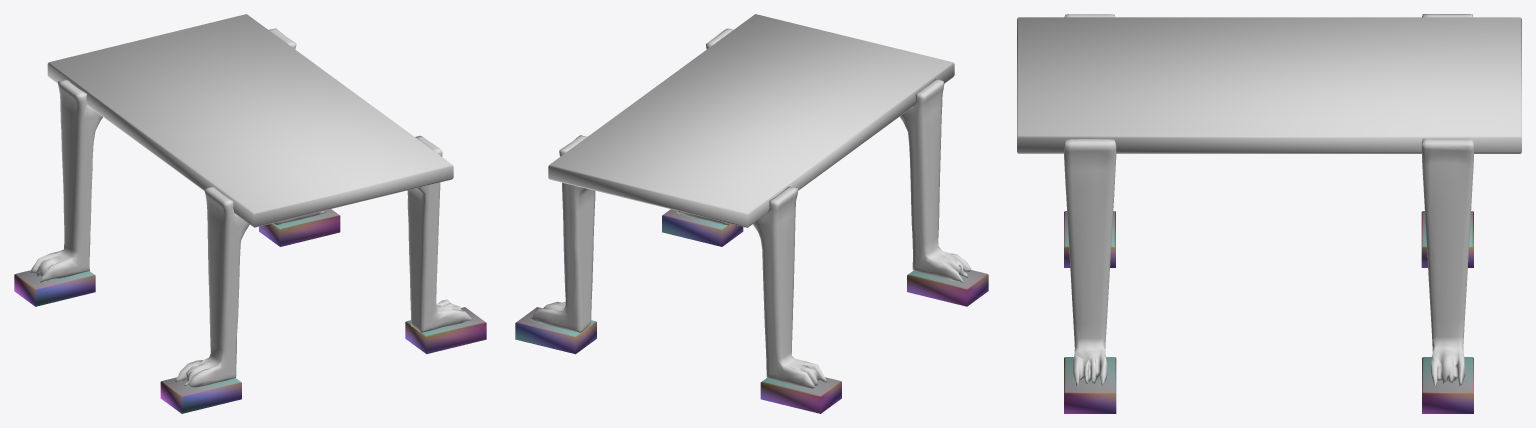
The model's file is SM_mensa02.fbx.
3 renders of one model, left to right at view 1: azimuth 30°, elevation 25°; view 2: azimuth 150°, elevation 25°; view 3: azimuth 270°, elevation 25°, orthographic. The views are drawn at different scales.
Visible parts, largest first — view 1: mensa02; view 2: mensa02; view 3: mensa02.
Boxes of the visible parts, bbox=[...] form: mensa02: bbox=[14, 14, 486, 413]; mensa02: bbox=[515, 14, 988, 413]; mensa02: bbox=[1017, 14, 1521, 413].
Bounding box in the file's own units: 141 × 89.43 × 166.
